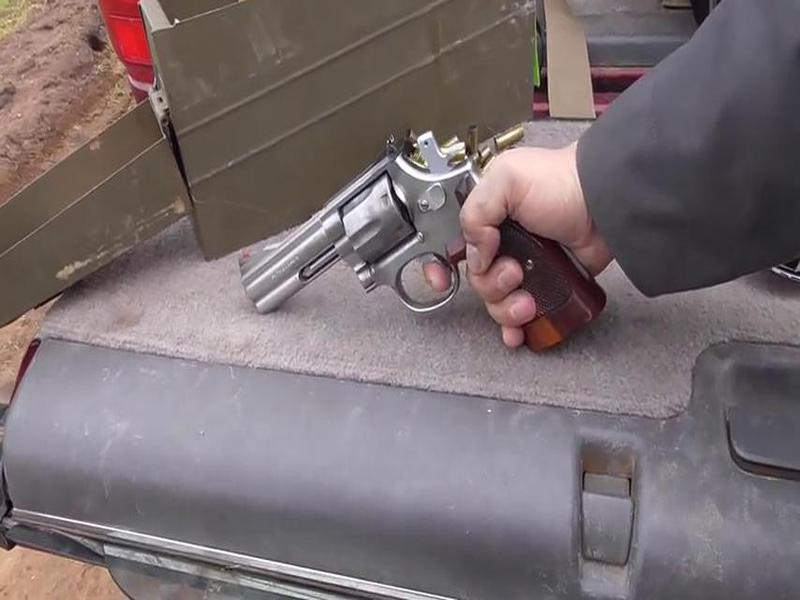Revolver: (230, 129, 621, 424)
